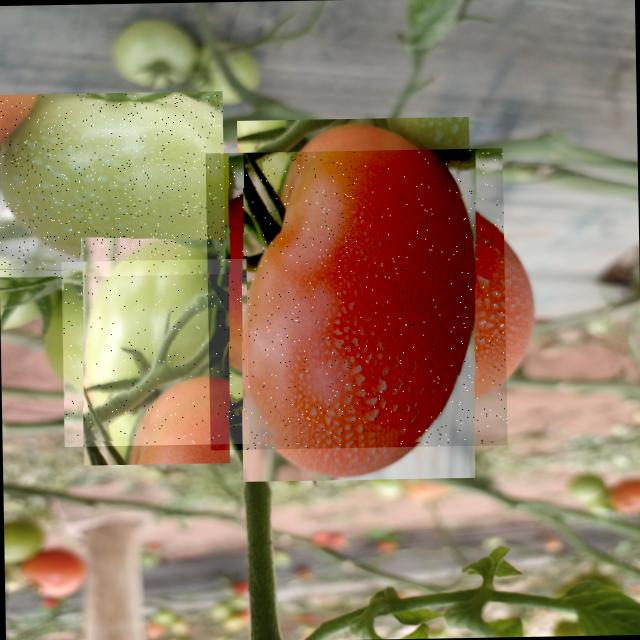Ripe Tomato: (205, 148, 507, 450)
Unripe Tomato: (0, 90, 225, 277), (61, 258, 249, 446)
